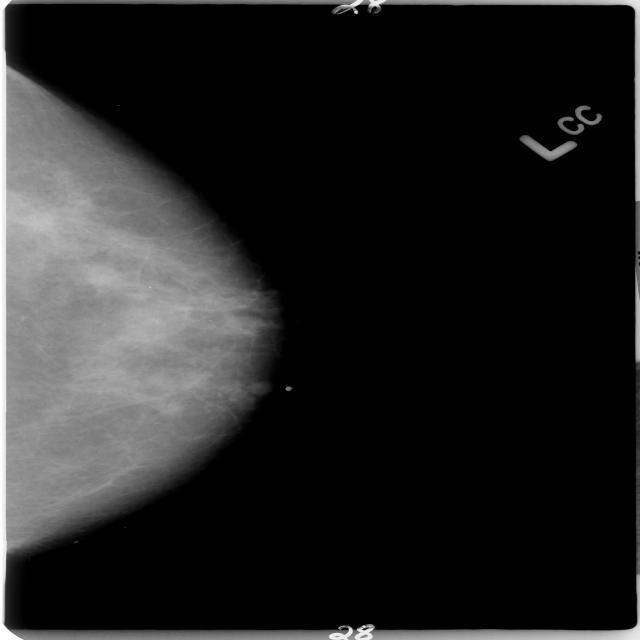normal: (0, 71, 322, 578)
